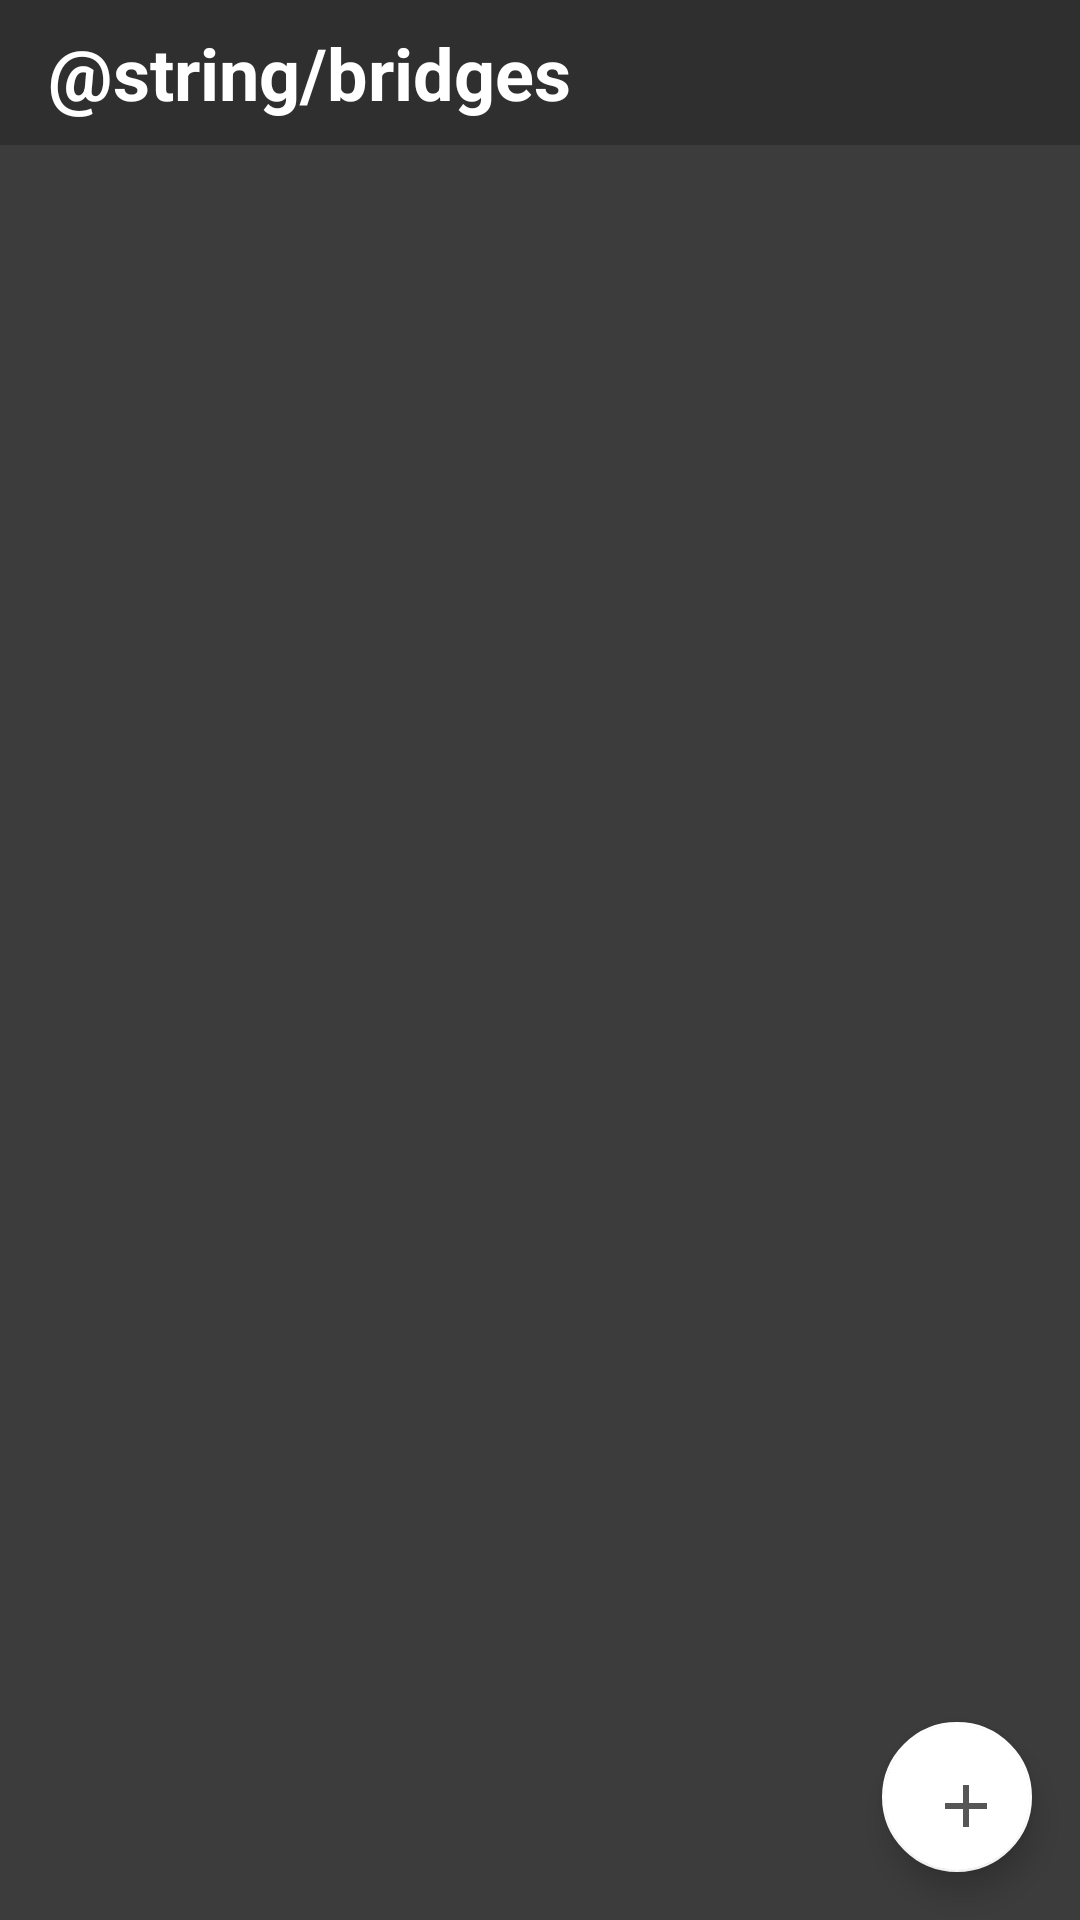

Icons on this 1080w x 1920h Android screen, each with the point to tap as (x=x, y=y):
add: (x=957, y=1797)
